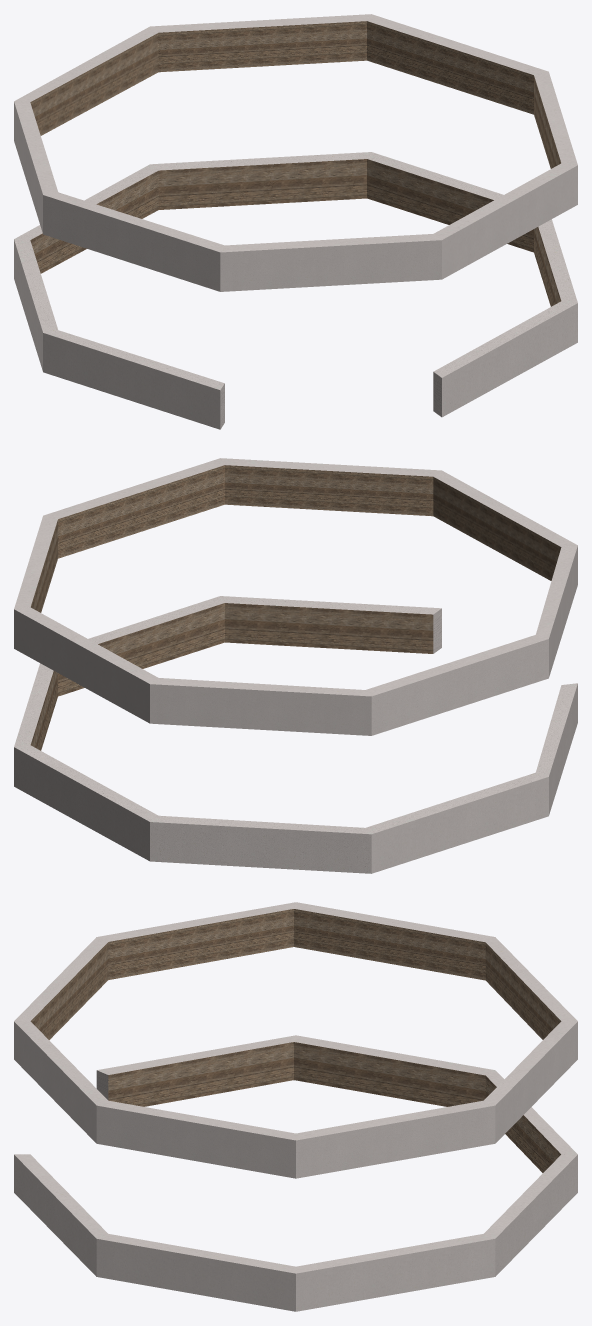
The model's file is paredes.obj.
3 views of the same model, one above another, from view 1: azimuth 30°, elevation 25°; view 2: azimuth 150°, elevation 25°; view 3: azimuth 270°, elevation 25° (orthographic). The views are drawn at different scales.
Parts seen in each view (by area): view 1: paredes1; view 2: paredes1; view 3: paredes1.
Part boxes in pixels (box(x1,y1,x2,y2)): paredes1: box(14, 14, 577, 429); paredes1: box(14, 458, 577, 873); paredes1: box(14, 902, 577, 1311).
Size of the model in its own units: 23.67 by 7.93 by 23.67.
Materials: 2 (2 with a texture image).
